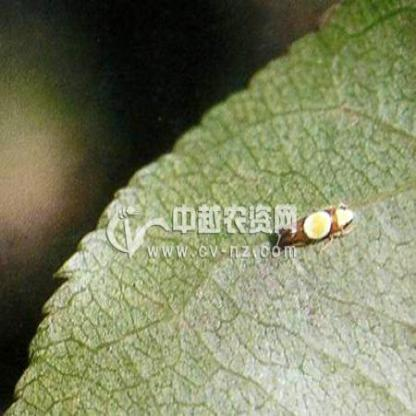Green-Leafhopper: (266, 197, 355, 261)
